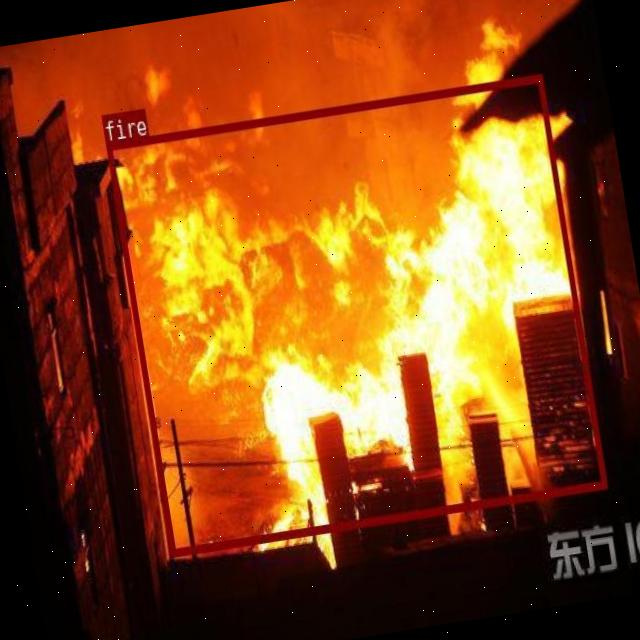fire: (104, 73, 606, 556)
